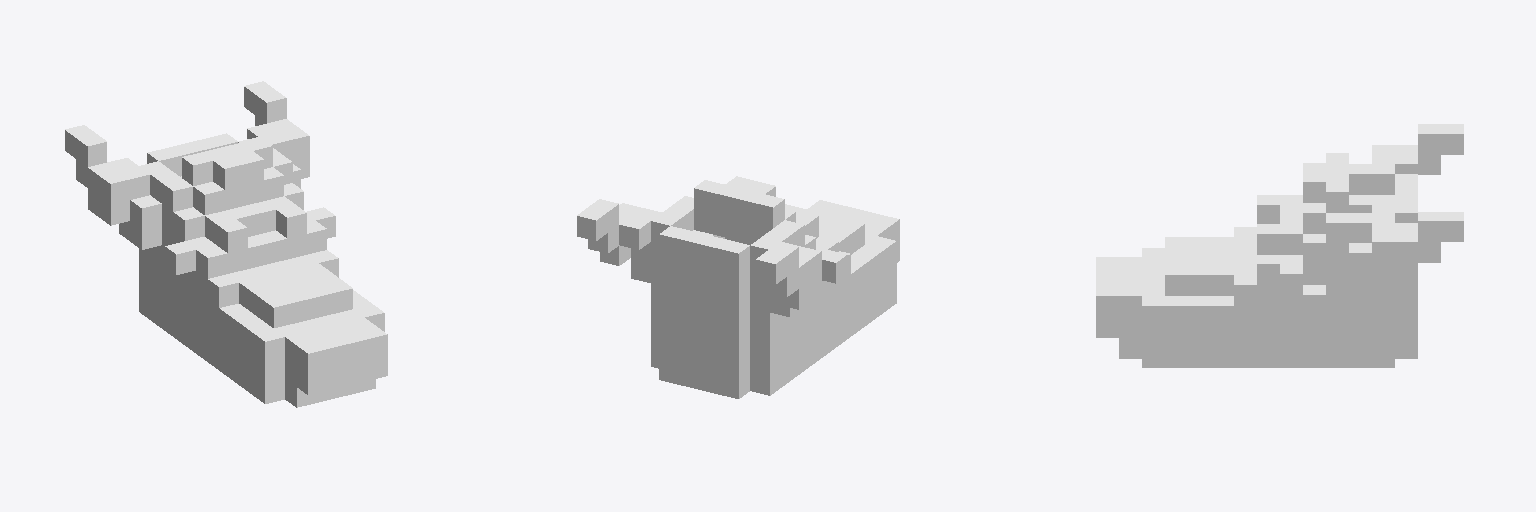
File: shoe.vox.obj
The picture shows the model from 3 angles: view 1: azimuth 30°, elevation 25°; view 2: azimuth 150°, elevation 25°; view 3: azimuth 270°, elevation 25°; orthographic projection.
Visible parts, largest first — view 1: object 1; view 2: object 1; view 3: object 1.
Boxes of the visible parts, box(x1,y1,x2,y2) form: object 1: box(65, 81, 387, 407); object 1: box(577, 176, 899, 398); object 1: box(1096, 124, 1463, 367).
Size of the model in its own units: 1 by 0.8 by 1.6.